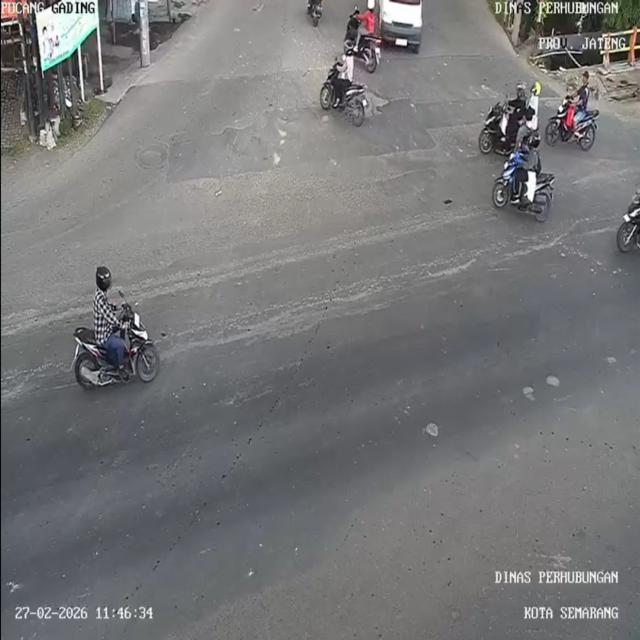motorcycle: (68, 308, 160, 392), (492, 158, 558, 223), (316, 69, 371, 130), (546, 101, 600, 155), (478, 103, 536, 153), (343, 10, 383, 72), (616, 190, 640, 258), (308, 1, 324, 29)
person: (89, 255, 125, 364), (522, 132, 546, 179), (505, 81, 527, 124), (525, 82, 543, 134), (337, 42, 358, 86), (575, 67, 595, 113), (363, 0, 378, 39)
rider_region: (67, 263, 161, 392), (492, 133, 556, 222), (317, 39, 370, 128), (480, 80, 542, 156), (547, 70, 600, 151), (345, 0, 382, 70)
